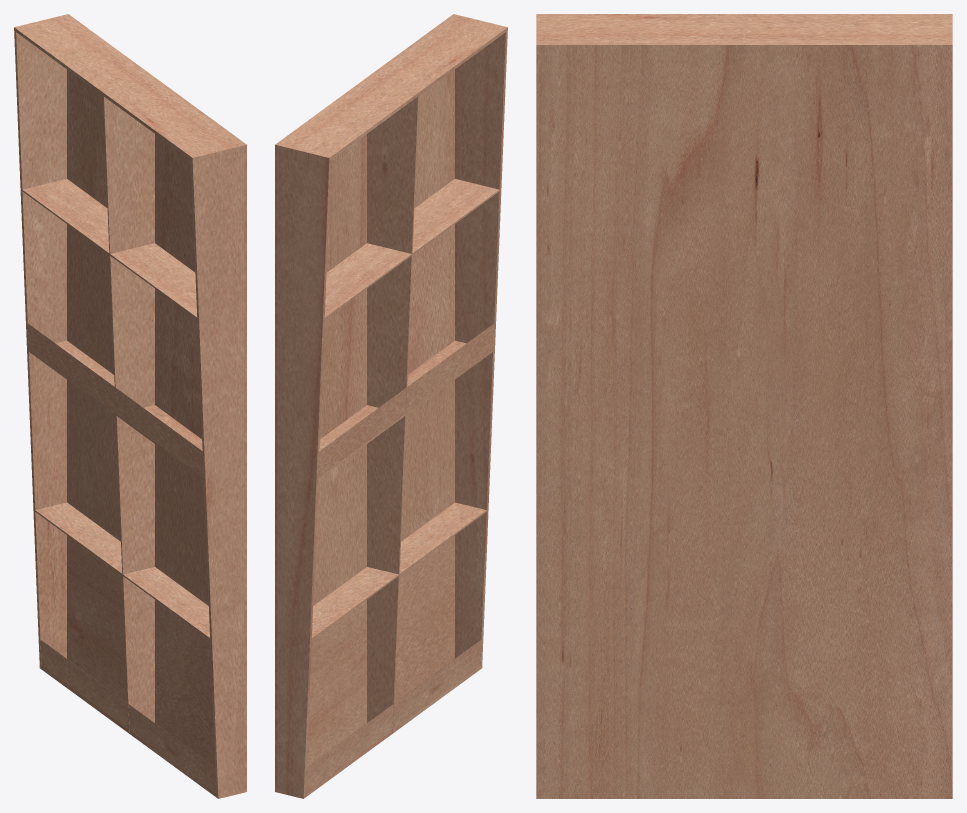
The model's file is ARP Panel.glb.
3 renders of one model, left to right at view 1: azimuth 30°, elevation 25°; view 2: azimuth 150°, elevation 25°; view 3: azimuth 270°, elevation 25°, orthographic. The views are drawn at different scales.
Parts seen in each view (by area): view 1: Body1.008; view 2: Body1.008; view 3: Body1.008.
Boxes of the visible parts, x1,y1,x2,y2 form: Body1.008: (14, 14, 246, 798); Body1.008: (275, 14, 507, 798); Body1.008: (536, 14, 952, 798).
Bounding box in the file's own units: 8.44 × 96 × 48.
1 material, 1 textured.
